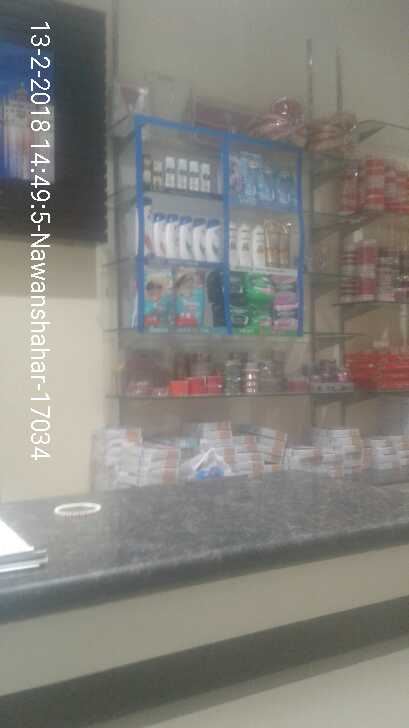venus: (242, 156, 261, 199), (274, 171, 293, 202), (263, 166, 274, 202)
